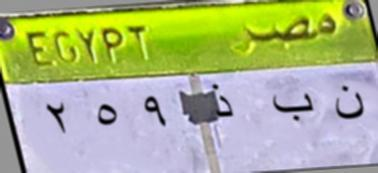2: (42, 97, 77, 138)
5: (94, 97, 124, 132)
9: (139, 92, 174, 136)
baa: (272, 83, 318, 130)
noon: (326, 79, 367, 123)
zaal: (204, 80, 234, 124)
